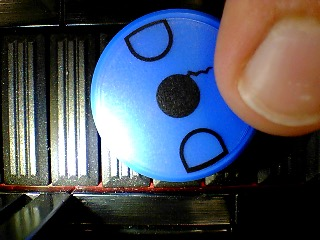CRACK: (90, 7, 270, 183)
